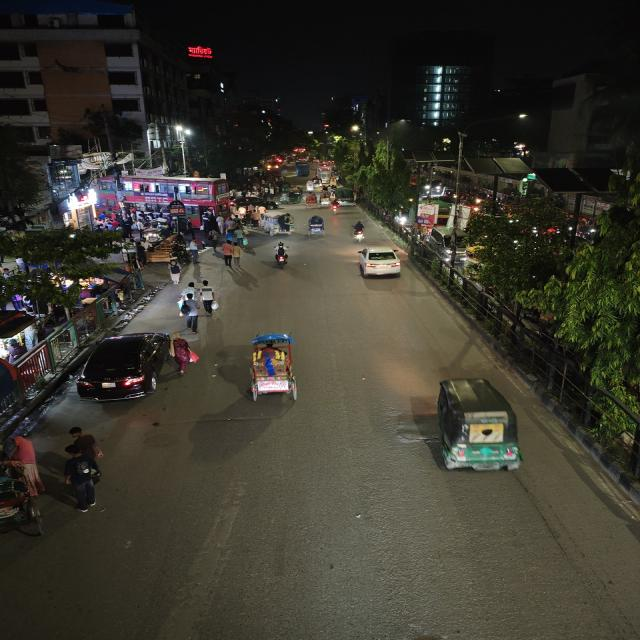bus: (124, 178, 222, 213), (281, 162, 311, 179)
car: (71, 328, 186, 403), (352, 243, 405, 281), (235, 198, 280, 210)
cng: (421, 373, 533, 482), (282, 192, 302, 205)
human_hauler: (261, 211, 297, 235)
motorcycle: (268, 242, 292, 270), (348, 219, 369, 243), (328, 200, 340, 214)
pedestrian: (59, 428, 110, 513), (0, 429, 47, 460), (181, 294, 202, 333), (198, 281, 220, 317), (183, 232, 206, 266), (220, 238, 239, 268), (166, 260, 183, 286), (233, 224, 248, 248)
pickup_van: (334, 189, 357, 206)
rickshaw: (236, 332, 312, 404), (0, 474, 42, 536), (303, 214, 328, 238), (301, 193, 321, 209)
